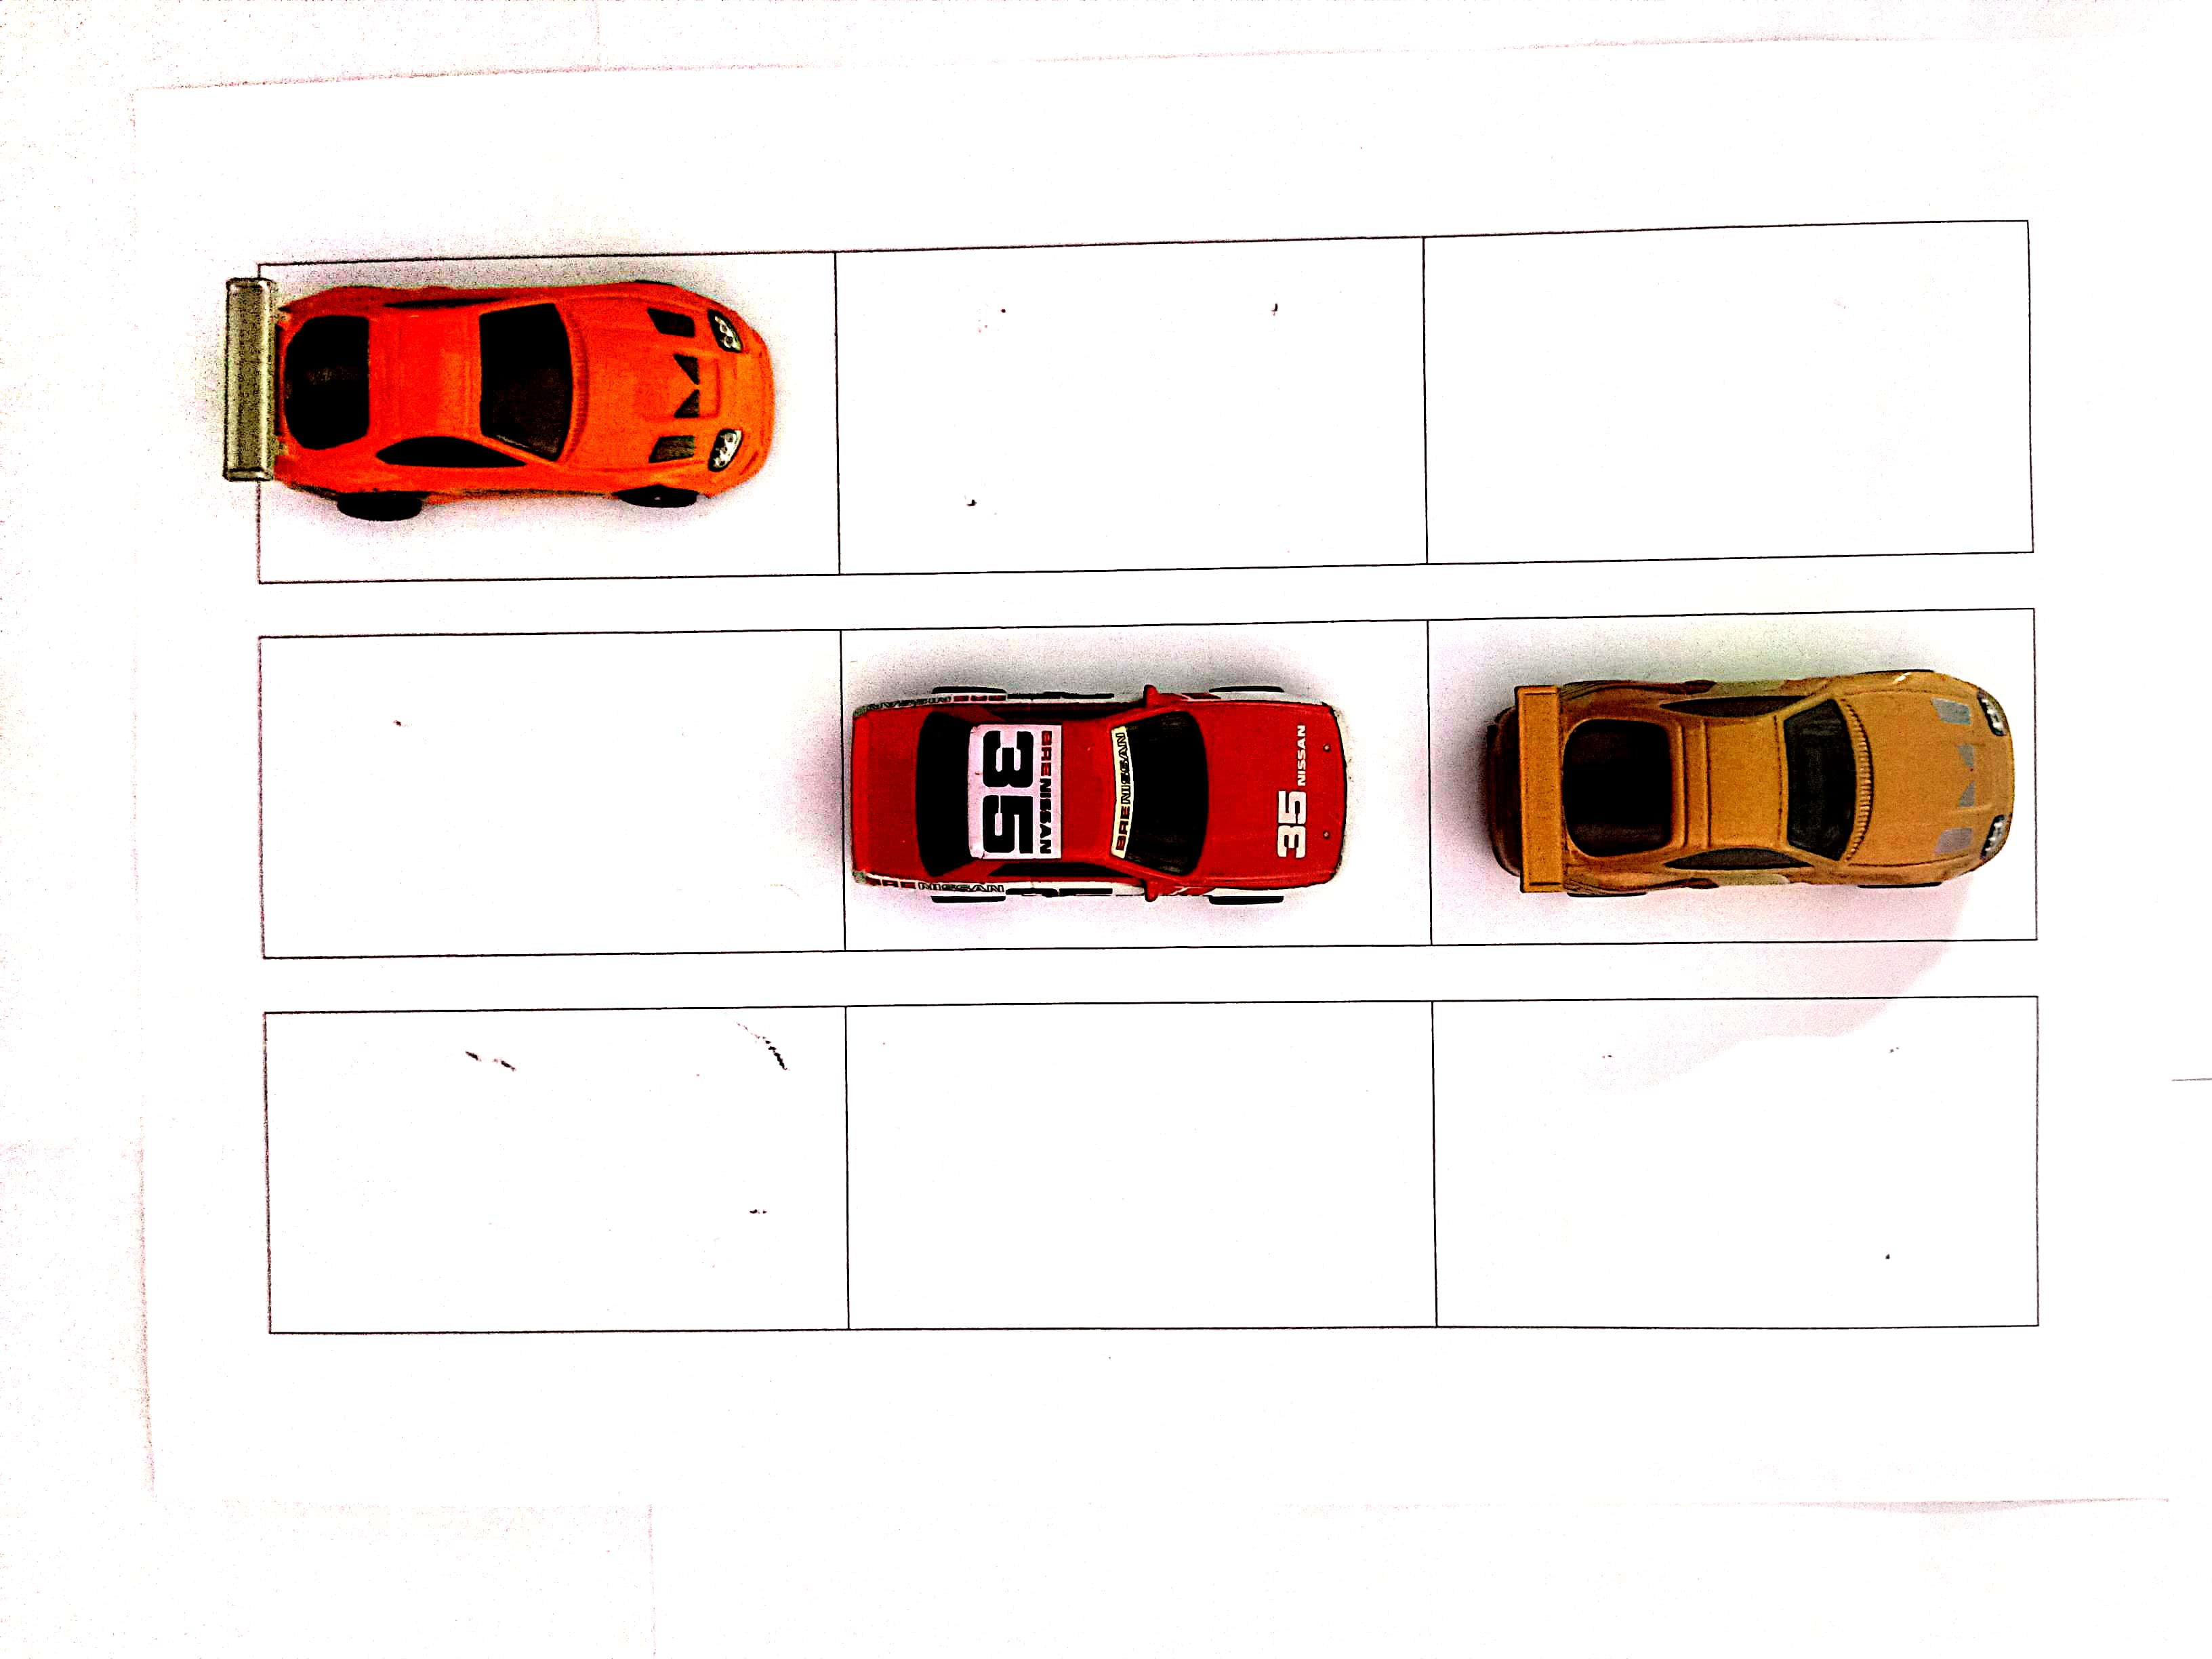Busy: (1423, 610, 2038, 957), (843, 634, 1428, 960), (260, 263, 843, 577)
Free: (827, 230, 1423, 570), (1432, 1004, 2036, 1326), (1432, 234, 2027, 556), (848, 1004, 1437, 1326), (263, 1014, 846, 1328), (254, 643, 840, 948)
